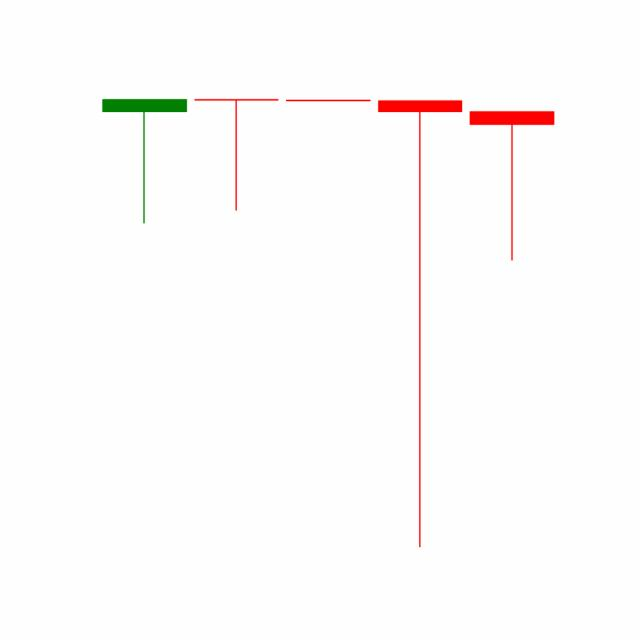Hammer: (373, 95, 467, 552)
